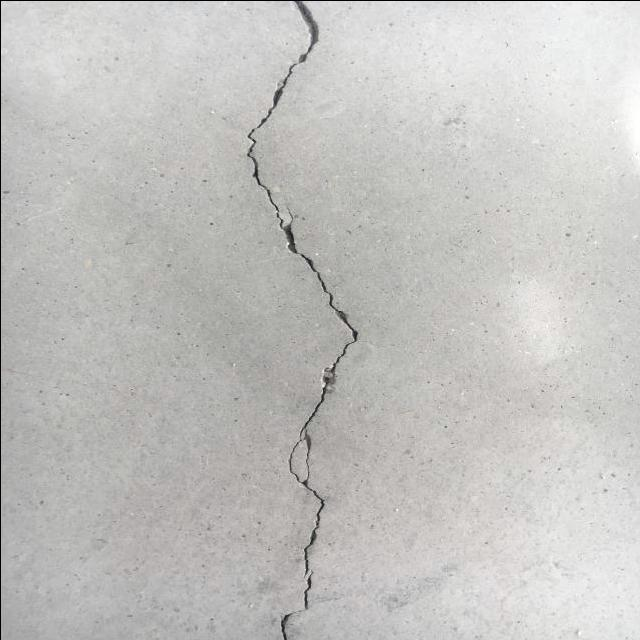SurfaceCrack: (213, 0, 384, 640)
